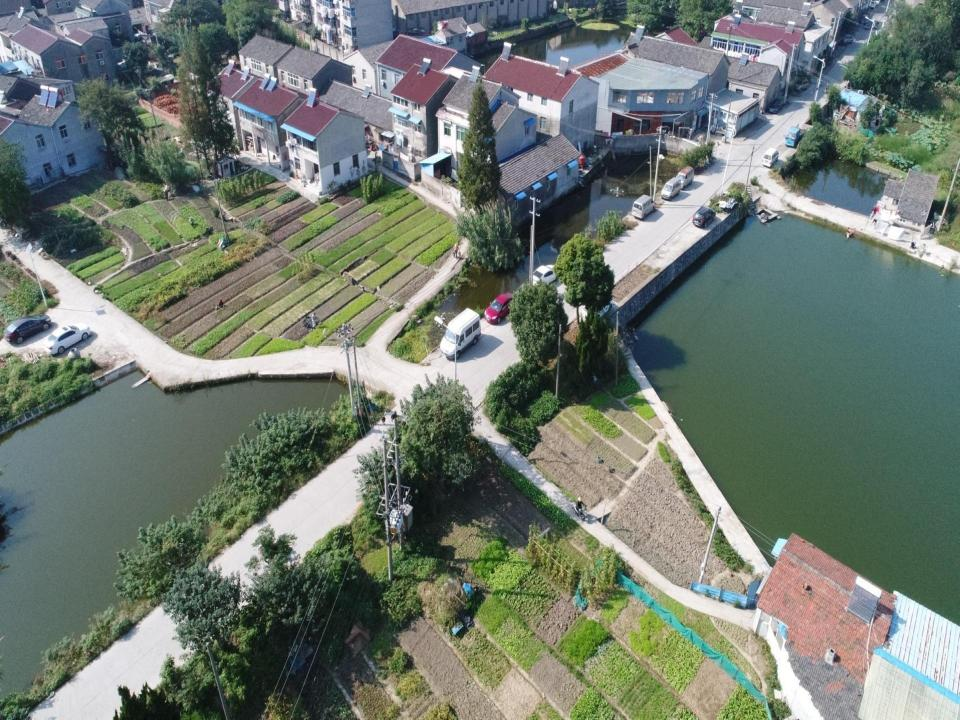car: (42, 321, 90, 355), (3, 314, 51, 344), (484, 292, 516, 324), (528, 264, 558, 292), (693, 206, 716, 229), (768, 99, 784, 114), (793, 77, 810, 91), (840, 34, 855, 44)
truck: (784, 120, 810, 148)
van: (439, 308, 481, 360), (632, 193, 655, 219), (660, 177, 682, 201), (675, 166, 695, 190), (761, 148, 780, 168)
